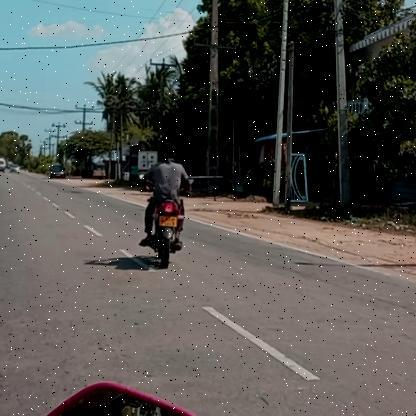motorcycle: (136, 197, 192, 276)
